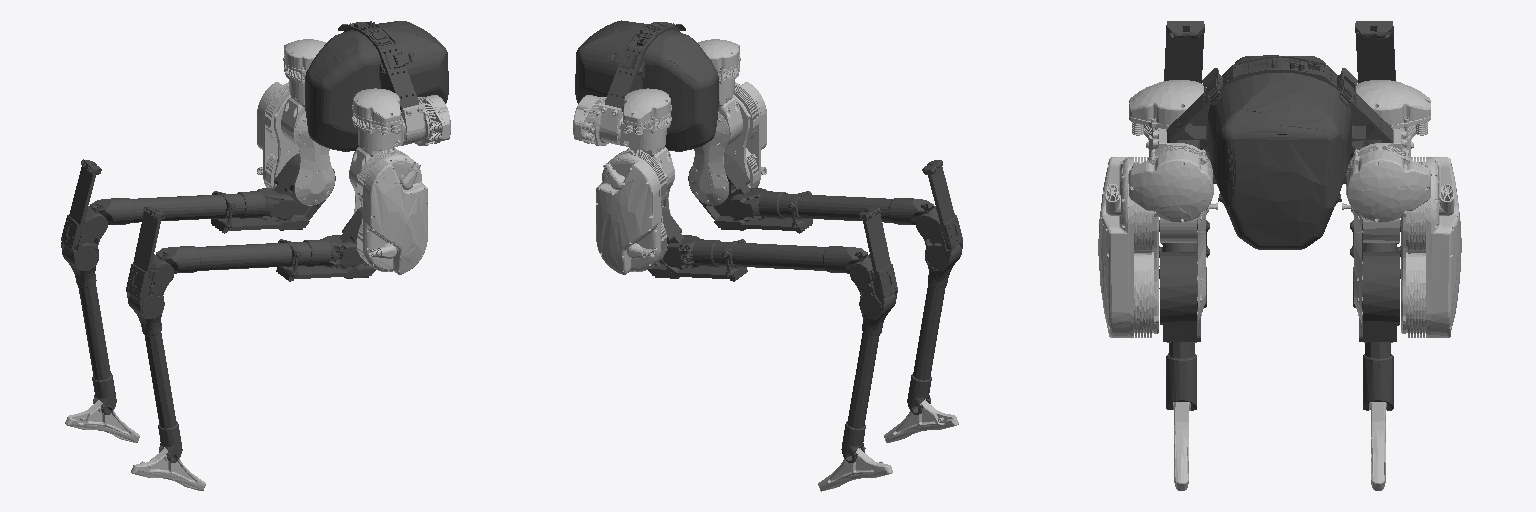
robot.urdf — cassie:
<?xml version="1.0" ?>
<!-- =================================================================================== -->
<!-- |    This document was autogenerated by xacro from cassie.xacro                   | -->
<!-- |    EDITING THIS FILE BY HAND IS NOT RECOMMENDED                                 | -->
<!-- =================================================================================== -->
<!-- Author: [author]
	 Email:  [email redacted]
     Date:   04/24/2016   -->
<robot name="cassie" xmlns:xacro="http://ros.org/wiki/xacro">
  <link name="vectorNav">
    <inertial>
      <origin rpy="0 0 0" xyz="0 0 0"/>
      <mass value="0"/>
      <inertia ixx="0" ixy="0" ixz="0" iyy="0" iyz="0" izz="0"/>
    </inertial>
  </link>
  <link name="pelvis">
    <inertial>
      <origin rpy="0 0 0" xyz=".0507 0 .0284"/>
      <mass value="10.33"/>
      <inertia ixx=".0942" ixy=".000169" ixz=".015" iyy=".084" iyz=".000516" izz=".113"/>
    </inertial>
    <visual>
      <origin rpy="0 0 0" xyz="0 0 0"/>
      <geometry>
        <mesh filename="../meshes/pelvis.stl" scale="1 1 1"/>
      </geometry>
      <material name="grey">
        <color rgba="0.35 0.35 0.35 1"/>
      </material>
    </visual>
    <collision>
      <origin rpy="0 0 0" xyz="0 0 0"/>
      <geometry>
        <mesh filename="../meshes/pelvis.stl" scale="1 1 1"/>
      </geometry>
    </collision>
  </link>
  <link name="left_pelvis_abduction">
    <inertial>
      <origin rpy="0 0 0" xyz="0 0 0"/>
      <mass value="0"/>
      <inertia ixx="0" ixy="0" ixz="0" iyy="0" iyz="0" izz="0"/>
    </inertial>
    <visual>
      <origin rpy="0 0 0" xyz="0 0 0"/>
      <geometry>
        <mesh filename="../meshes/abduction.stl" scale="1 1 1"/>
      </geometry>
      <material name="light_grey">
        <color rgba="0.75 0.75 0.75 1"/>
      </material>
    </visual>
    <collision>
      <origin rpy="0 0 0" xyz="0 0 0"/>
      <geometry>
        <mesh filename="../meshes/abduction.stl" scale="1 1 1"/>
      </geometry>
    </collision>
  </link>
  <link name="left_pelvis_rotation">
    <inertial>
      <origin rpy="0 0 0" xyz=".0257 0.0001 .0179"/>
      <mass value="1.82"/>
      <inertia ixx=".00272" ixy="7.03e-07" ixz=".00000153" iyy=".00559" iyz="2.61e-06" izz=".004640"/>
    </inertial>
    <visual>
      <origin rpy="0 0 0" xyz="0 0 0"/>
      <geometry>
        <mesh filename="../meshes/yaw.stl" scale="1 1 1"/>
      </geometry>
      <material name="light_grey">
        <color rgba="0.75 0.75 0.75 1"/>
      </material>
    </visual>
    <collision>
      <origin rpy="0 0 0" xyz="0 0 0"/>
      <geometry>
        <mesh filename="../meshes/yaw.stl" scale="1 1 1"/>
      </geometry>
    </collision>
  </link>
  <link name="left_hip">
    <inertial>
      <origin rpy="0 0 0" xyz="-.0557 0 0"/>
      <mass value="1.17"/>
      <inertia ixx=".000842" ixy=".000000246" ixz="-.000000625" iyy=".006080" iyz="-.00000004" izz=".006440"/>
    </inertial>
    <visual>
      <origin rpy="0 0 0" xyz="0 0 0"/>
      <geometry>
        <mesh filename="../meshes/hip.stl" scale="1 1 1"/>
      </geometry>
      <material name="light_grey">
        <color rgba="0.75 0.75 0.75 1"/>
      </material>
    </visual>
    <collision>
      <origin rpy="0 0 0" xyz="0 0 0"/>
      <geometry>
        <mesh filename="../meshes/hip.stl" scale="1 1 1"/>
      </geometry>
    </collision>
  </link>
  <link name="left_thigh">
    <inertial>
      <origin rpy="0 0 0" xyz=".0598 .0001 -0.0358"/>
      <mass value="5.52"/>
      <inertia ixx=".018" ixy=".000284" ixz="-0.0117" iyy=".0563" iyz="-1.93e-05" izz=".0498"/>
    </inertial>
    <visual>
      <origin rpy="0 0 0" xyz="0 0 0"/>
      <geometry>
        <mesh filename="../meshes/thigh.stl" scale="1 1 1"/>
      </geometry>
      <material name="light_grey">
        <color rgba="0.75 0.75 0.75 1"/>
      </material>
    </visual>
    <collision>
      <origin rpy="0 0 0" xyz="0 0 0"/>
      <geometry>
        <mesh filename="../meshes/thigh.stl" scale="1 1 1"/>
      </geometry>
    </collision>
  </link>
  <link name="left_knee">
    <inertial>
      <origin rpy="0 0 0" xyz=".023 .0321 -0.0022"/>
      <mass value=".758"/>
      <inertia ixx=".002160" ixy=".000956" ixz="2.84e-06" iyy=".00144" iyz="7.39e-07" izz=".00334"/>
    </inertial>
    <visual>
      <origin rpy="0 0 0" xyz="0 0 0"/>
      <geometry>
        <mesh filename="../meshes/knee-output.stl" scale="1 1 1"/>
      </geometry>
      <material name="grey">
        <color rgba="0.35 0.35 0.35 1"/>
      </material>
    </visual>
    <collision>
      <origin rpy="0 0 0" xyz="0 0 0"/>
      <geometry>
        <mesh filename="../meshes/knee-output.stl" scale="1 1 1"/>
      </geometry>
    </collision>
  </link>
  <link name="left_shin">
    <inertial>
      <origin rpy="0 0 0" xyz=".1834 .0012 0.0002"/>
      <mass value=".577"/>
      <inertia ixx=".000360" ixy=".000334" ixz="-1.94e-07" iyy=".0341" iyz="2.65e-07" izz=".0341"/>
    </inertial>
    <visual>
      <origin rpy="0 0 0" xyz="0 0 0"/>
      <geometry>
        <mesh filename="../meshes/shin-bone.stl" scale="1 1 1"/>
      </geometry>
      <material name="grey">
        <color rgba="0.35 0.35 0.35 1"/>
      </material>
    </visual>
     <collision>
      <origin rpy="0 0 0" xyz="0 0 0"/>
      <geometry>
        <mesh filename="../meshes/shin-bone.stl" scale="1 1 1"/>
      </geometry>
    </collision>
  </link>
  <link name="left_tarsus">
    <inertial>
      <origin rpy="0 0 0" xyz=".1105 -.0306 -0.0013"/>
      <mass value=".782"/>
      <inertia ixx=".00113" ixy="-.00288" ixz="-6.33e-05" iyy=".0231" iyz="3.62e-05" izz=".0239"/>
    </inertial>
    <visual>
      <origin rpy="0 0 0" xyz="0 0 0"/>
      <geometry>
        <mesh filename="../meshes/tarsus.stl" scale="1 1 1"/>
      </geometry>
      <material name="grey">
        <color rgba="0.35 0.35 0.35 1"/>
      </material>
    </visual>
     <collision>
      <origin rpy="0 0 0" xyz="0 0 0"/>
      <geometry>
        <mesh filename="../meshes/tarsus.stl" scale="1 1 1"/>
      </geometry>
    </collision>
  </link>
  <link name="left_toe">
    <inertial>
      <origin rpy="0 0 0" xyz=".0047 .0275 -0.0001"/>
      <mass value=".15"/>
      <inertia ixx=".000287" ixy="-.0000986" ixz="-1.46e-06" iyy=".000171" iyz="1.72e-07" izz=".000449"/>
    </inertial>
    <visual>
      <origin rpy="0 0 0" xyz="0 0 0"/>
      <geometry>
        <mesh filename="../meshes/toe.stl" scale="1 1 1"/>
      </geometry>
      <material name="light_grey">
        <color rgba="0.75 0.75 0.75 1"/>
      </material>
    </visual>
    <collision>
      <origin rpy="0 0 0" xyz="0 0 0"/>
      <geometry>
        <mesh filename="../meshes/toe.stl" scale="1 1 1"/>
      </geometry>
    </collision>
  </link>
  <link name="right_pelvis_abduction">
    <inertial>
      <origin rpy="0 0 0" xyz="0 0 0"/>
      <mass value="0"/>
      <inertia ixx="0" ixy="0" ixz="0" iyy="0" iyz="0" izz="0"/>
    </inertial>
    <visual>
      <origin rpy="0 0 0" xyz="0 0 0"/>
      <geometry>
        <mesh filename="../meshes/abduction_mirror.stl" scale="1 1 1"/>
      </geometry>
      <material name="light_grey">
        <color rgba="0.75 0.75 0.75 1"/>
      </material>
    </visual>
    <collision>
      <origin rpy="0 0 0" xyz="0 0 0"/>
      <geometry>
        <mesh filename="../meshes/abduction_mirror.stl" scale="1 1 1"/>
      </geometry>
    </collision>
  </link>
  <link name="right_pelvis_rotation">
    <inertial>
      <origin rpy="0 0 0" xyz=".0257 -0.0001 .0179"/>
      <mass value="1.82"/>
      <inertia ixx=".00272" ixy="-7.03e-07" ixz=".00000153" iyy=".00559" iyz="-2.61e-06" izz=".004640"/>
    </inertial>
    <visual>
      <origin rpy="0 0 0" xyz="0 0 0"/>
      <geometry>
        <mesh filename="../meshes/yaw_mirror.stl" scale="1 1 1"/>
      </geometry>
      <material name="light_grey">
        <color rgba="0.75 0.75 0.75 1"/>
      </material>
    </visual>
    <collision>
      <origin rpy="0 0 0" xyz="0 0 0"/>
      <geometry>
        <mesh filename="../meshes/yaw_mirror.stl" scale="1 1 1"/>
      </geometry>
    </collision>
  </link>
  <link name="right_hip">
    <inertial>
      <origin rpy="0 0 0" xyz="-.0557 0 0"/>
      <mass value="1.17"/>
      <inertia ixx=".000842" ixy=".000000246" ixz="-.000000625" iyy=".006080" iyz="-.00000004" izz=".006440"/>
    </inertial>
    <visual>
      <origin rpy="0 0 0" xyz="0 0 0"/>
      <geometry>
        <mesh filename="../meshes/hip_mirror.stl" scale="1 1 1"/>
      </geometry>
      <material name="light_grey">
        <color rgba="0.75 0.75 0.75 1"/>
      </material>
    </visual>
     <collision>
      <origin rpy="0 0 0" xyz="0 0 0"/>
      <geometry>
        <mesh filename="../meshes/hip_mirror.stl" scale="1 1 1"/>
      </geometry>
    </collision>
  </link>
  <link name="right_thigh">
    <inertial>
      <origin rpy="0 0 0" xyz=".0598 .0001 0.0358"/>
      <mass value="5.52"/>
      <inertia ixx=".018" ixy=".000284" ixz="0.0117" iyy=".0563" iyz="1.93e-05" izz=".0498"/>
    </inertial>
    <visual>
      <origin rpy="0 0 0" xyz="0 0 0"/>
      <geometry>
        <mesh filename="../meshes/thigh_mirror.stl" scale="1 1 1"/>
      </geometry>
      <material name="light_grey">
        <color rgba="0.75 0.75 0.75 1"/>
      </material>
    </visual>
    <collision>
      <origin rpy="0 0 0" xyz="0 0 0"/>
      <geometry>
        <mesh filename="../meshes/thigh_mirror.stl" scale="1 1 1"/>
      </geometry>
    </collision>
  </link>
  <link name="right_knee">
    <inertial>
      <origin rpy="0 0 0" xyz=".023 .0321 0.0022"/>
      <mass value=".758"/>
      <inertia ixx=".002160" ixy=".000956" ixz="-2.84e-06" iyy=".00144" iyz="-7.39e-07" izz=".00334"/>
    </inertial>
    <visual>
      <origin rpy="0 0 0" xyz="0 0 0"/>
      <geometry>
        <mesh filename="../meshes/knee-output_mirror.stl" scale="1 1 1"/>
      </geometry>
      <material name="grey">
        <color rgba="0.35 0.35 0.35 1"/>
      </material>
    </visual>
    <collision>
      <origin rpy="0 0 0" xyz="0 0 0"/>
      <geometry>
        <mesh filename="../meshes/knee-output_mirror.stl" scale="1 1 1"/>
      </geometry>
    </collision>
  </link>
  <link name="right_shin">
    <inertial>
      <origin rpy="0 0 0" xyz=".1834 .0012 -0.0002"/>
      <mass value=".577"/>
      <inertia ixx=".000360" ixy=".000334" ixz="1.94e-07" iyy=".0341" iyz="-2.65e-07" izz=".0341"/>
    </inertial>
    <visual>
      <origin rpy="0 0 0" xyz="0 0 0"/>
      <geometry>
        <mesh filename="../meshes/shin-bone_mirror.stl" scale="1 1 1"/>
      </geometry>
      <material name="grey">
        <color rgba="0.35 0.35 0.35 1"/>
      </material>
    </visual>
    <collision>
      <origin rpy="0 0 0" xyz="0 0 0"/>
      <geometry>
        <mesh filename="../meshes/shin-bone_mirror.stl" scale="1 1 1"/>
      </geometry>
    </collision>
  </link>
  <link name="right_tarsus">
    <inertial>
      <origin rpy="0 0 0" xyz=".1105 -.0306 0.0013"/>
      <mass value=".782"/>
      <inertia ixx=".00113" ixy="-.00288" ixz="6.33e-05" iyy=".0231" iyz="-3.62e-05" izz=".0239"/>
    </inertial>
    <visual>
      <origin rpy="0 0 0" xyz="0 0 0"/>
      <geometry>
        <mesh filename="../meshes/tarsus_mirror.stl" scale="1 1 1"/>
      </geometry>
      <material name="grey">
        <color rgba="0.35 0.35 0.35 1"/>
      </material>
    </visual>
    <collision>
      <origin rpy="0 0 0" xyz="0 0 0"/>
      <geometry>
        <mesh filename="../meshes/tarsus_mirror.stl" scale="1 1 1"/>
      </geometry>
    </collision>
  </link>
  <link name="right_toe">
    <inertial>
      <origin rpy="0 0 0" xyz=".0047 .0275 0.0001"/>
      <mass value=".15"/>
      <inertia ixx=".000287" ixy="-.0000986" ixz="1.46e-06" iyy=".000171" iyz="-1.72e-07" izz=".000449"/>
    </inertial>
    <visual>
      <origin rpy="0 0 0" xyz="0 0 0"/>
      <geometry>
        <mesh filename="../meshes/toe_mirror.stl" scale="1 1 1"/>
      </geometry>
      <material name="light_grey">
        <color rgba="0.75 0.75 0.75 1"/>
      </material>
    </visual>
    <collision>
      <origin rpy="0 0 0" xyz="0 0 0"/>
      <geometry>
        <mesh filename="../meshes/toe_mirror.stl" scale="1 1 1"/>
      </geometry>
    </collision>
  </link>
  <joint name="fixed_pelvis_to_vectorNav" type="fixed">
    <origin rpy="0 0 0" xyz="0.03155 0 -0.07996"/>
    <parent link="pelvis"/>
    <child link="vectorNav"/>
  </joint>
  <joint name="fixed_left" type="fixed">
    <origin rpy="0 1.57079632679 0" xyz="0.021 0.135 0"/>
    <parent link="pelvis"/>
    <child link="left_pelvis_abduction"/>
  </joint>
  <joint name="hip_abduction_left" type="revolute">
    <origin rpy="0 -1.57079632679 0" xyz="0 0 -0.07"/>
    <axis xyz="1 0 0"/>
    <parent link="left_pelvis_abduction"/>
    <child link="left_pelvis_rotation"/>
    <limit effort="4.5" lower="-0.2618" upper="0.3927" velocity="12.1475"/>
  </joint>
  <joint name="hip_rotation_left" type="revolute">
    <origin rpy="0 1.57079632679 -1.57079632679" xyz="0 0 -0.09"/>
    <axis xyz="-1 0 0"/>
    <parent link="left_pelvis_rotation"/>
    <child link="left_hip"/>
    <limit effort="4.5" lower="-0.3927" upper="0.3927" velocity="12.1475"/>
  </joint>
  <joint name="hip_flexion_left" type="revolute">
    <origin rpy="0 0 0" xyz="0 0 0"/>
    <axis xyz="0 0 1"/>
    <parent link="left_hip"/>
    <child link="left_thigh"/>
    <limit effort="12.2" lower="-0.8727" upper="1.3963" velocity="8.5085"/>
  </joint>
  <joint name="knee_joint_left" type="revolute">
    <origin rpy="0 0 0" xyz="0.12 0 0.0045"/>
    <axis xyz="0 0 1"/>
    <parent link="left_thigh"/>
    <child link="left_knee"/>
    <limit effort="12.2" lower="-2.8623" upper="-0.6458" velocity="8.5085"/>
  </joint>
  <joint name="knee_to_shin_left" type="revolute">
    <origin rpy="0 0 0" xyz="0.0607 0.0474 0"/>
    <axis xyz="0 0 1"/>
    <parent link="left_knee"/>
    <child link="left_shin"/>
    <limit effort="0" lower="-0.349" upper="0.349" velocity="100"/>
  </joint>
  <joint name="ankle_joint_left" type="revolute">
    <origin rpy="0 0 0" xyz="0.4348 0.02 0"/>
    <axis xyz="0 0 1"/>
    <parent link="left_shin"/>
    <child link="left_tarsus"/>
    <limit effort="0" lower="0.872" upper="2.97" velocity="100"/>
  </joint>
  <joint name="toe_joint_left" type="revolute">
    <origin rpy="0 0 0" xyz="0.408 -0.04 0"/>
    <axis xyz="0 0 1"/>
    <parent link="left_tarsus"/>
    <child link="left_toe"/>
    <limit effort="0.9" lower="-2.4435" upper="-0.5236" velocity="11.5192"/>
  </joint>
  <joint name="fixed_right" type="fixed">
    <origin rpy="0 1.57079632679 0" xyz="0.021 -0.135 0"/>
    <parent link="pelvis"/>
    <child link="right_pelvis_abduction"/>
  </joint>
  <joint name="hip_abduction_right" type="revolute">
    <origin rpy="0 -1.57079632679 0" xyz="0 0 -0.07"/>
    <axis xyz="1 0 0"/>
    <parent link="right_pelvis_abduction"/>
    <child link="right_pelvis_rotation"/>
    <limit effort="4.5" lower="-0.3927" upper="0.2618" velocity="12.1475"/>
  </joint>
  <joint name="hip_rotation_right" type="revolute">
    <origin rpy="0 1.57079632679 -1.57079632679" xyz="0 0 -0.09"/>
    <axis xyz="-1 0 0"/>
    <parent link="right_pelvis_rotation"/>
    <child link="right_hip"/>
    <limit effort="4.5" lower="-0.3927" upper="0.3927" velocity="12.1475"/>
  </joint>
  <joint name="hip_flexion_right" type="revolute">
    <origin rpy="0 0 0" xyz="0 0 0"/>
    <axis xyz="0 0 1"/>
    <parent link="right_hip"/>
    <child link="right_thigh"/>
    <limit effort="12.2" lower="-0.8727" upper="1.3963" velocity="8.5085"/>
  </joint>
  <joint name="knee_joint_right" type="revolute">
    <origin rpy="0 0 0" xyz="0.12 0 -0.0045"/>
    <axis xyz="0 0 1"/>
    <parent link="right_thigh"/>
    <child link="right_knee"/>
    <limit effort="12.2" lower="-2.8623" upper="-0.6458" velocity="8.5085"/>
  </joint>
  <joint name="knee_to_shin_right" type="revolute">
    <origin rpy="0 0 0" xyz="0.0607 0.0474 0"/>
    <axis xyz="0 0 1"/>
    <parent link="right_knee"/>
    <child link="right_shin"/>
    <limit effort="0" lower="-0.349" upper="0.349" velocity="100"/>
  </joint>
  <joint name="ankle_joint_right" type="revolute">
    <origin rpy="0 0 0" xyz="0.4348 0.02 0"/>
    <axis xyz="0 0 1"/>
    <parent link="right_shin"/>
    <child link="right_tarsus"/>
    <limit effort="0" lower="0.872" upper="2.97" velocity="100"/>
  </joint>
  <joint name="toe_joint_right" type="revolute">
    <origin rpy="0 0 0" xyz="0.408 -0.04 0"/>
    <axis xyz="0 0 1"/>
    <parent link="right_tarsus"/>
    <child link="right_toe"/>
    <limit effort="0.9" lower="-2.4435" upper="-0.5236" velocity="11.5192"/>
  </joint>
  <transmission name="hip_abduction_trans_left" type="transmission_interface/SimpleTransmission">
    <joint name="hip_abduction_left"/>
    <actuator name="hip_abduction_motor_left"/>
    <motorInertia>0.000061</motorInertia>
    <mechanicalReduction>25</mechanicalReduction>
  </transmission>
  <transmission name="hip_rotation_trans_left" type="transmission_interface/SimpleTransmission">
    <joint name="hip_rotation_left"/>
    <actuator name="hip_rotation_motor_left"/>
    <motorInertia>0.000061</motorInertia>
    <mechanicalReduction>25</mechanicalReduction>
  </transmission>
  <transmission name="hip_flexion_trans_left" type="transmission_interface/SimpleTransmission">
    <joint name="hip_flexion_left"/>
    <actuator name="hip_flexion_motor_left"/>
    <motorInertia>0.000365</motorInertia>
    <mechanicalReduction>16</mechanicalReduction>
  </transmission>
  <transmission name="knee_joint_trans_left" type="transmission_interface/SimpleTransmission">
    <joint name="knee_joint_left"/>
    <actuator name="knee_joint_motor_left"/>
    <motorInertia>0.000365</motorInertia>
    <mechanicalReduction>16</mechanicalReduction>
  </transmission>
  <transmission name="toe_joint_trans_left" type="transmission_interface/SimpleTransmission">
    <joint name="toe_joint_left"/>
    <actuator name="toe_joint_motor_left"/>
    <motorInertia>0.0000049</motorInertia>
    <mechanicalReduction>50</mechanicalReduction>
  </transmission>
  <transmission name="hip_abduction_trans_right" type="transmission_interface/SimpleTransmission">
    <joint name="hip_abduction_right"/>
    <actuator name="hip_abduction_motor_right"/>
    <motorInertia>0.000061</motorInertia>
    <mechanicalReduction>25</mechanicalReduction>
  </transmission>
  <transmission name="hip_rotation_trans_right" type="transmission_interface/SimpleTransmission">
    <joint name="hip_rotation_right"/>
    <actuator name="hip_rotation_motor_right"/>
    <motorInertia>0.000061</motorInertia>
    <mechanicalReduction>25</mechanicalReduction>
  </transmission>
  <transmission name="hip_flexion_trans_right" type="transmission_interface/SimpleTransmission">
    <joint name="hip_flexion_right"/>
    <actuator name="hip_flexion_motor_right"/>
    <motorInertia>0.000365</motorInertia>
    <mechanicalReduction>16</mechanicalReduction>
  </transmission>
  <transmission name="knee_joint_trans_right" type="transmission_interface/SimpleTransmission">
    <joint name="knee_joint_right"/>
    <actuator name="knee_joint_motor_right"/>
    <motorInertia>0.000365</motorInertia>
    <mechanicalReduction>16</mechanicalReduction>
  </transmission>
  <transmission name="toe_joint_trans_right" type="transmission_interface/SimpleTransmission">
    <joint name="toe_joint_right"/>
    <actuator name="toe_joint_motor_right"/>
    <motorInertia>0.0000049</motorInertia>
    <mechanicalReduction>50</mechanicalReduction>
  </transmission>
</robot>

--- Facts derived from the render (not from the file) ---
The picture shows the robot from 3 angles, left to right: view 1: azimuth 30°, elevation 25°; view 2: azimuth 150°, elevation 25°; view 3: azimuth 270°, elevation 25°; orthographic projection.
Robot: cassie — 18 links, 17 joints (14 revolute, 3 fixed); root link pelvis; default pose: all joints at 0 but 6 set to mid-range because 0 is outside their limits (knee_joint_left = -1.75, ankle_joint_left = 1.92, toe_joint_left = -1.48, knee_joint_right = -1.75, ankle_joint_right = 1.92, toe_joint_right = -1.48).
Links seen in each view (by area): view 1: pelvis, right_thigh, right_tarsus, left_tarsus, right_shin, left_thigh, left_shin, right_pelvis_rotation, left_knee, right_pelvis_abduction, right_knee, left_pelvis_rotation (+4 smaller); view 2: pelvis, left_thigh, left_tarsus, right_tarsus, left_shin, right_thigh, right_shin, left_pelvis_rotation, right_knee, left_pelvis_abduction, left_knee, right_pelvis_rotation (+4 smaller); view 3: pelvis, right_thigh, left_thigh, left_pelvis_abduction, right_pelvis_abduction, left_tarsus, right_tarsus, right_knee, left_knee, left_pelvis_rotation, right_pelvis_rotation, right_toe (+3 smaller).
Boxes of the visible links, x1=… form: pelvis: x1=305, y1=21, x2=448, y2=151; right_thigh: x1=353, y1=149, x2=427, y2=274; right_tarsus: x1=126, y1=207, x2=182, y2=462; left_tarsus: x1=61, y1=159, x2=116, y2=414; right_shin: x1=152, y1=235, x2=360, y2=276; left_thigh: x1=257, y1=82, x2=334, y2=205; left_shin: x1=86, y1=188, x2=296, y2=227; right_pelvis_rotation: x1=352, y1=88, x2=406, y2=149; left_knee: x1=211, y1=153, x2=335, y2=233; right_pelvis_abduction: x1=401, y1=95, x2=450, y2=145; right_knee: x1=276, y1=207, x2=375, y2=281; left_pelvis_rotation: x1=283, y1=39, x2=325, y2=99; pelvis: x1=575, y1=20, x2=718, y2=151; left_thigh: x1=596, y1=150, x2=670, y2=274; left_tarsus: x1=841, y1=207, x2=897, y2=462; right_tarsus: x1=907, y1=160, x2=962, y2=414; left_shin: x1=663, y1=235, x2=871, y2=276; right_thigh: x1=689, y1=82, x2=766, y2=205; right_shin: x1=727, y1=188, x2=937, y2=228; left_pelvis_rotation: x1=617, y1=88, x2=671, y2=149; right_knee: x1=688, y1=153, x2=812, y2=233; left_pelvis_abduction: x1=573, y1=95, x2=622, y2=145; left_knee: x1=648, y1=207, x2=747, y2=281; right_pelvis_rotation: x1=698, y1=39, x2=740, y2=99; pelvis: x1=1167, y1=55, x2=1392, y2=249; right_thigh: x1=1098, y1=157, x2=1217, y2=337; left_thigh: x1=1342, y1=157, x2=1461, y2=337; left_pelvis_abduction: x1=1346, y1=129, x2=1430, y2=222; right_pelvis_abduction: x1=1129, y1=129, x2=1213, y2=222; left_tarsus: x1=1355, y1=21, x2=1395, y2=410; right_tarsus: x1=1164, y1=21, x2=1204, y2=410; right_knee: x1=1159, y1=246, x2=1209, y2=342; left_knee: x1=1350, y1=246, x2=1400, y2=342; left_pelvis_rotation: x1=1356, y1=80, x2=1430, y2=159; right_pelvis_rotation: x1=1129, y1=80, x2=1206, y2=159; right_toe: x1=1173, y1=402, x2=1190, y2=490.
Size in the robot's own frame: 0.77 by 0.4824 by 0.8531 metres.
17 mesh visuals loaded from 17 distinct referenced files (17 binary STL).
